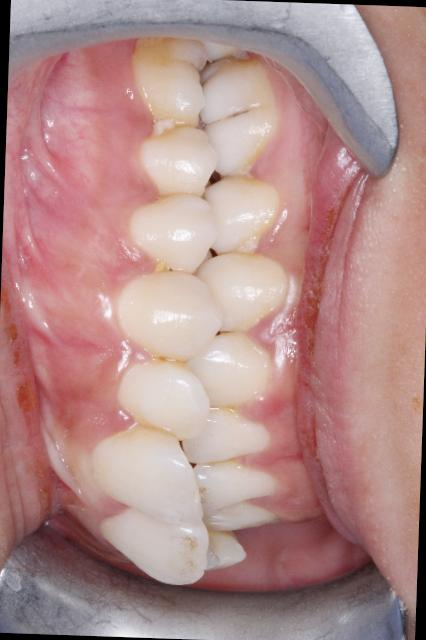canine class II 1/4: (108, 271, 280, 444)
molar class II full class: (127, 35, 294, 181)
